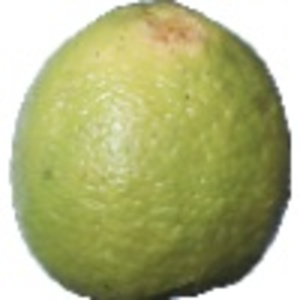limão: (11, 1, 292, 300)
